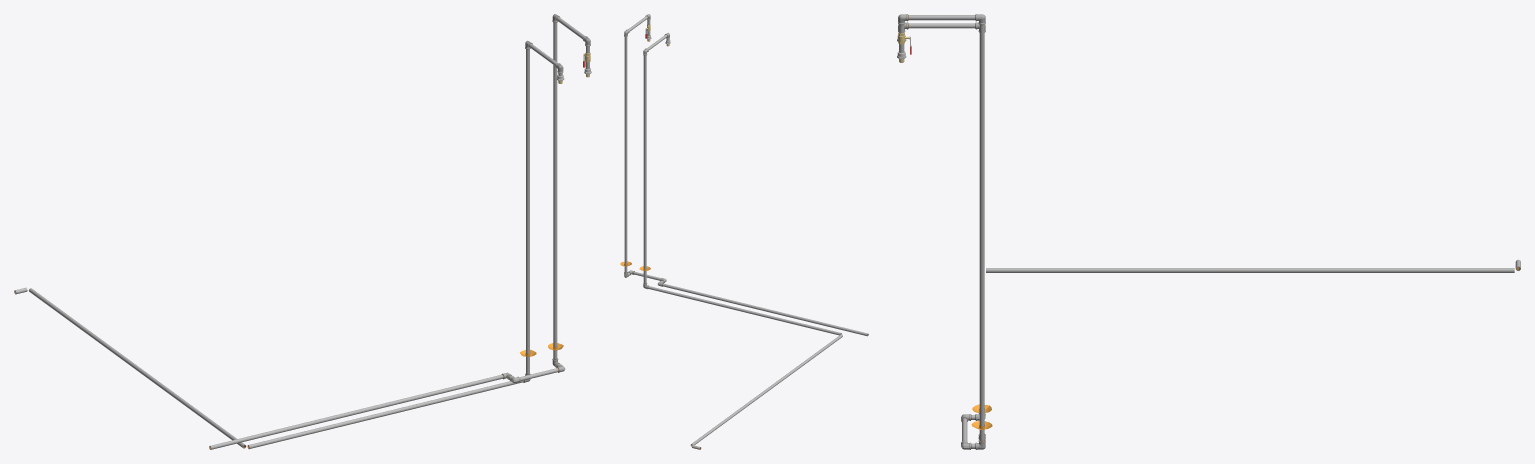
Rendered from pipes_supply__water_heater-closet_gas_tank+closet_electric_tank_and_plumbing-galvanized__r4y.glb.
3 views of the same model, side by side, from view 1: azimuth 30°, elevation 25°; view 2: azimuth 150°, elevation 25°; view 3: azimuth 270°, elevation 25° (orthographic). The views are drawn at different scales.
Visible parts, largest first — view 1: pipe_supply_hot_wh_closet__galvanized, pipe_supply_cold_wh_closet__galvanized; view 2: pipe_supply_hot_wh_closet__galvanized, pipe_supply_cold_wh_closet__galvanized; view 3: pipe_supply_cold_wh_closet__galvanized, pipe_supply_hot_wh_closet__galvanized.
Part boxes in pixels (x1,y1,x2,y2): pipe_supply_hot_wh_closet__galvanized: (14,43,562,448); pipe_supply_cold_wh_closet__galvanized: (209,17,589,449); pipe_supply_hot_wh_closet__galvanized: (643,35,842,449); pipe_supply_cold_wh_closet__galvanized: (624,16,868,336); pipe_supply_cold_wh_closet__galvanized: (899,15,984,448); pipe_supply_hot_wh_closet__galvanized: (909,23,1520,272).
Size of the model in its own units: 2.57 by 2.52 by 3.19.
